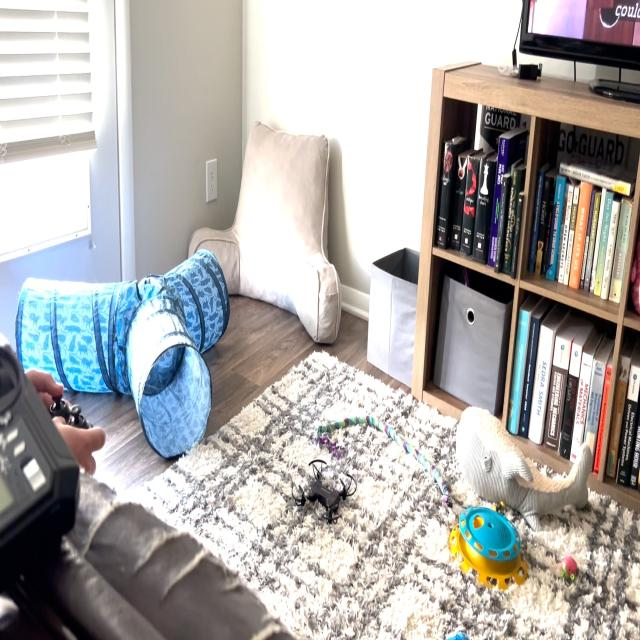drone: (282, 440, 360, 537)
